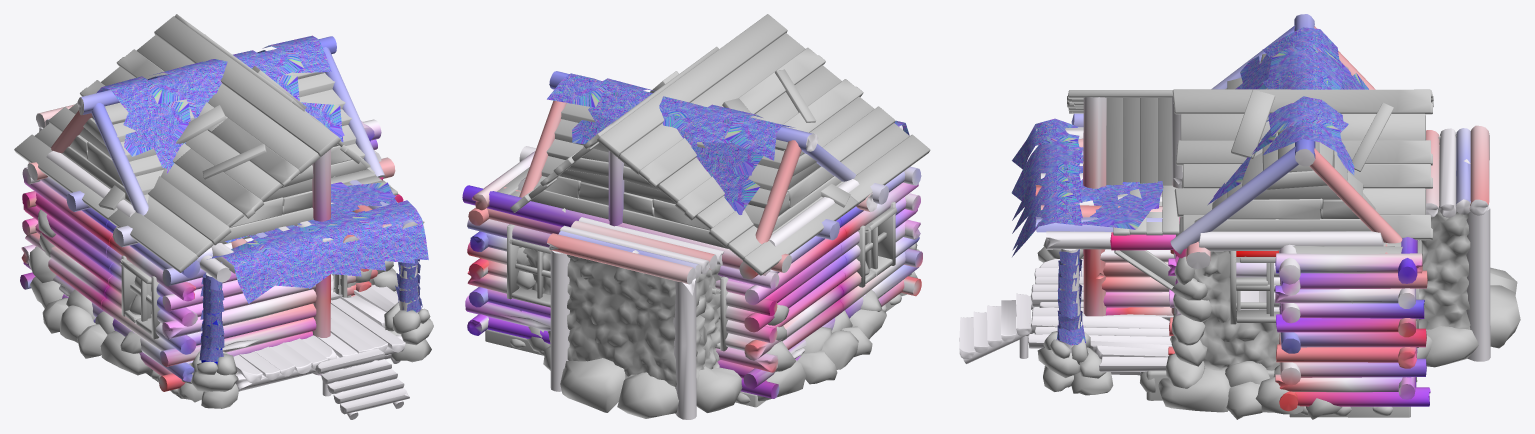
Rendered from PremadeBuildings.fbx.
3 views of the same model, side by side, from view 1: azimuth 30°, elevation 25°; view 2: azimuth 150°, elevation 25°; view 3: azimuth 270°, elevation 25° (orthographic). The views are drawn at different scales.
Parts seen in each view (by area): view 1: Stone Cabin, Log Cabin; view 2: Log Cabin, Stone Cabin; view 3: Stone Cabin, Log Cabin.
Part boxes in pixels (box(x1,y1,x2,y2)): Stone Cabin: box(27, 35, 433, 419); Log Cabin: box(14, 14, 403, 398); Log Cabin: box(462, 14, 930, 407); Stone Cabin: box(503, 71, 919, 419); Stone Cabin: box(959, 14, 1520, 419); Log Cabin: box(1067, 89, 1433, 417).
Bounding box in the file's own units: 854 × 623 × 1172.
